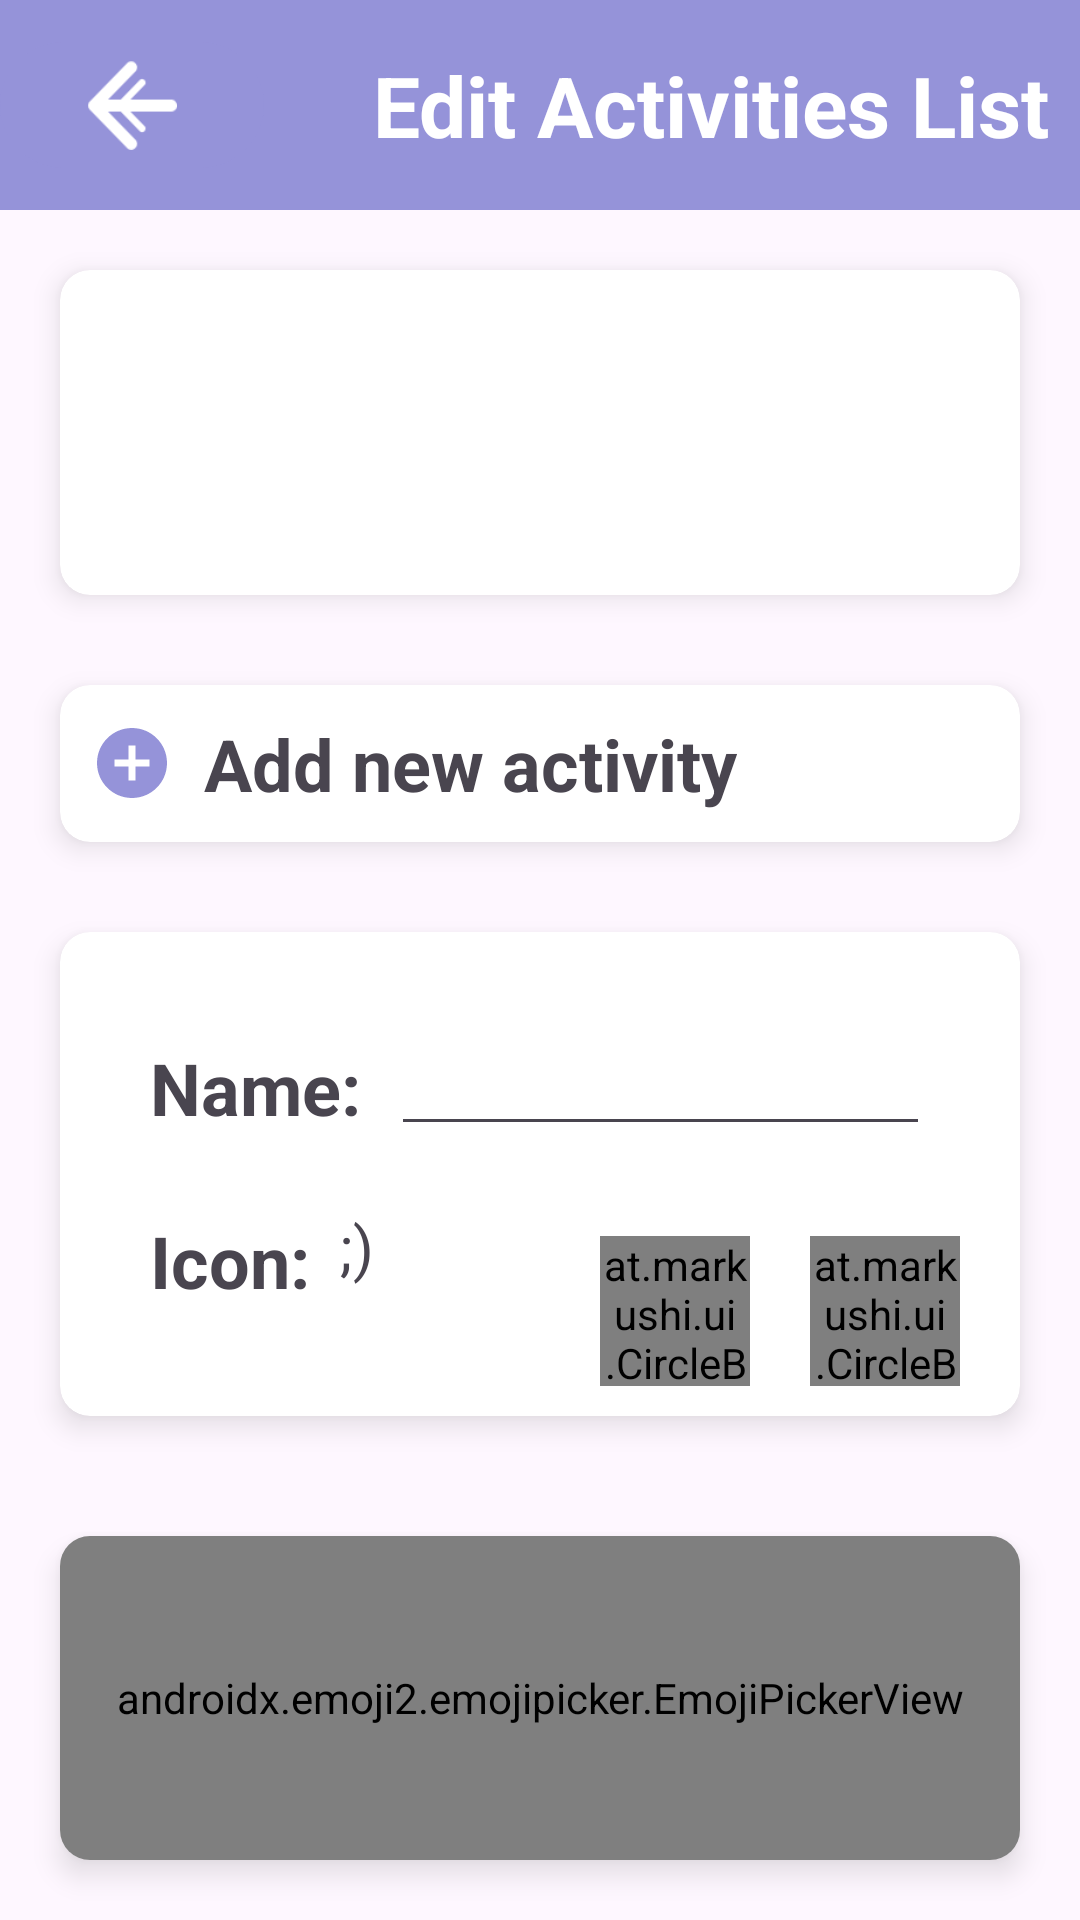

Icons on this 1080 x 1920 Android screen, each with its box as box(x1, y1, x2, y2):
add entry: box(97, 728, 167, 798)
arrow back: box(88, 61, 177, 150)
